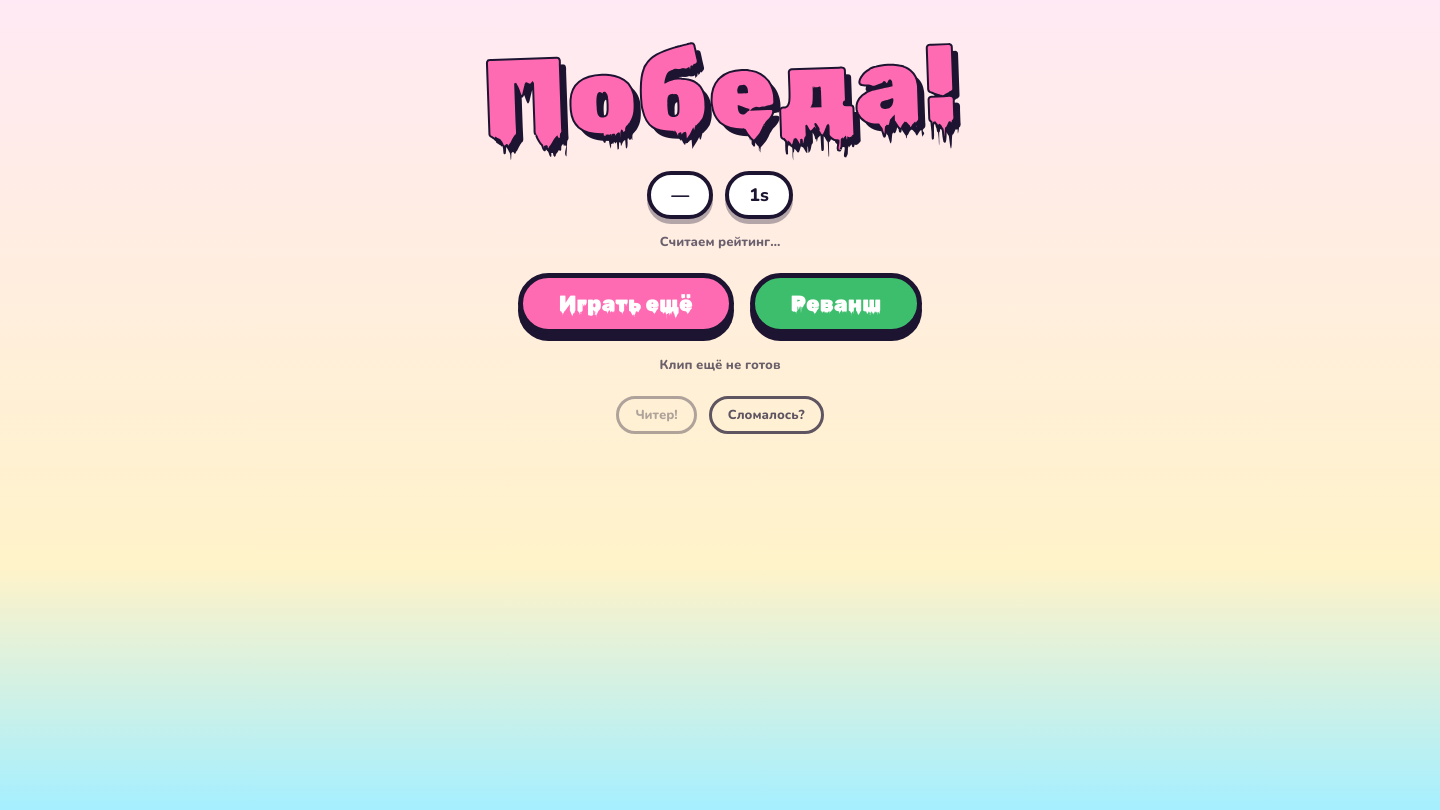
criterion 4 — report cheating / report a bug › criterion-4: "Report a bug" shows an error state on failure
The image size is (1440, 810).
What coordinates should you click on to do the following:
click the button with test id "report-bug"
I would click on:
 (766, 415)
Its box is x1=709 y1=396 x2=824 y2=434.
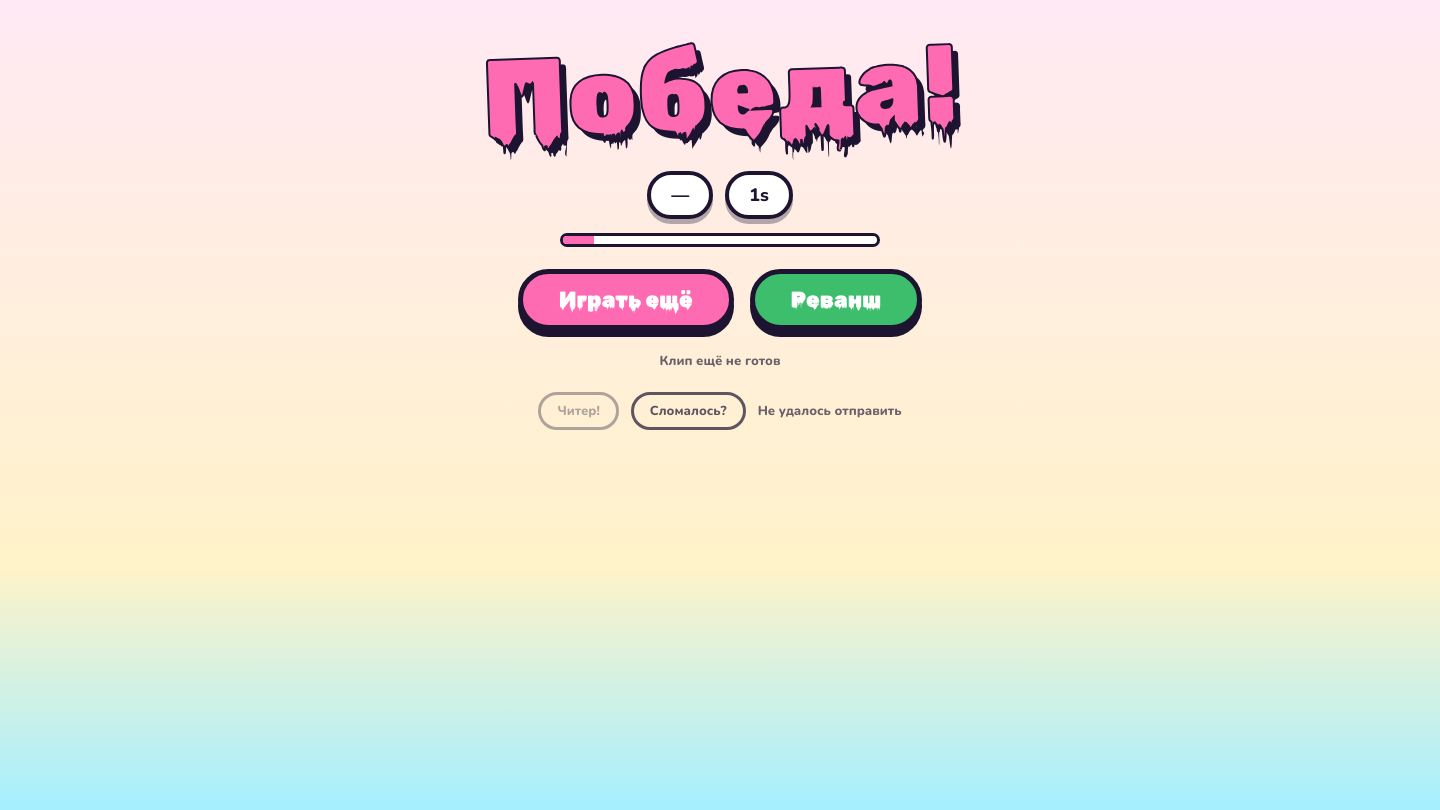
Check: the text "Не удалось отправить" is shown, box x1=758 y1=402 x2=902 y2=420
